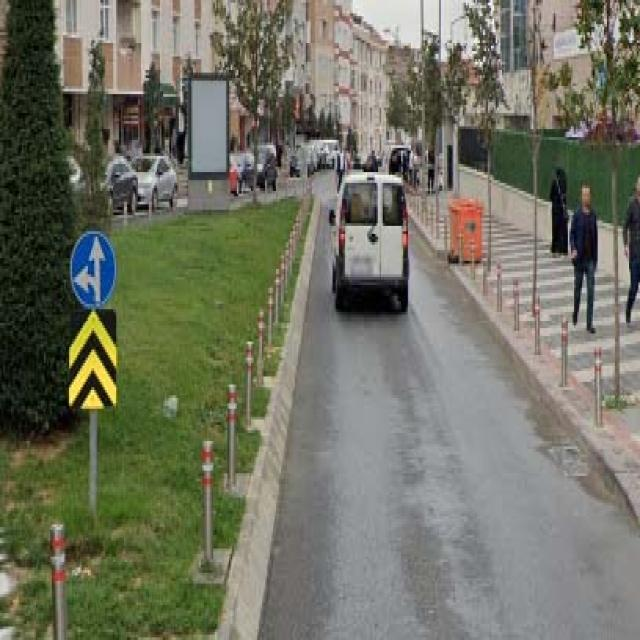ilerisol: (69, 232, 118, 310)
